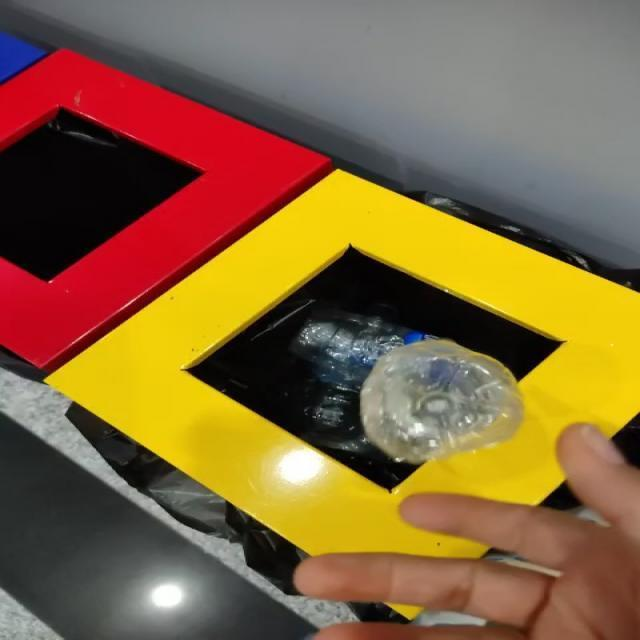Plastic: (360, 340, 524, 464)
